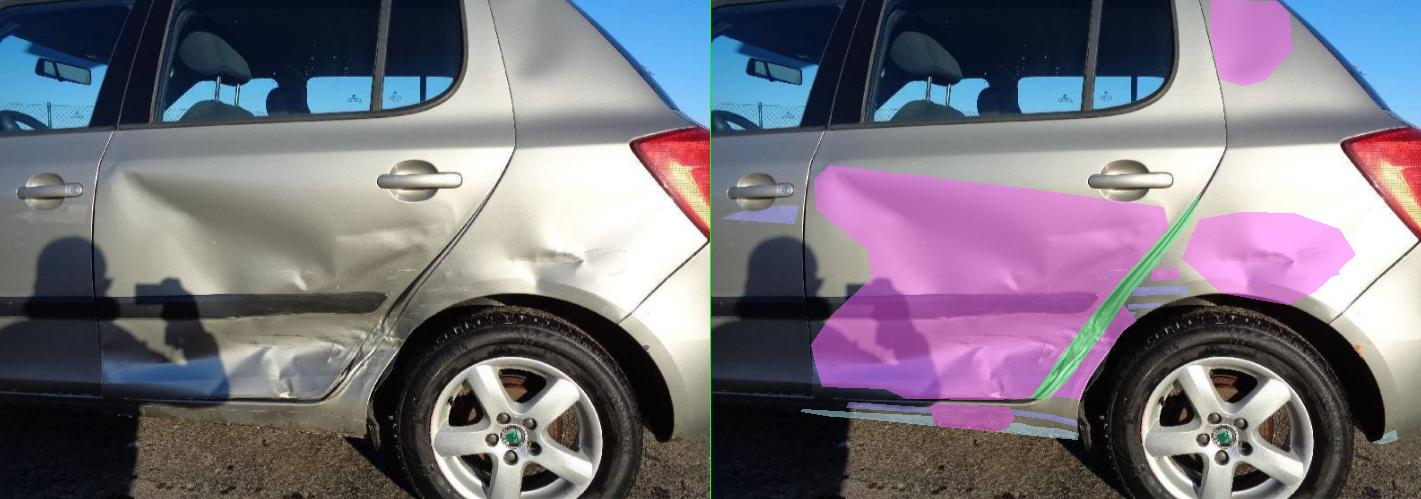Broken part: (638, 194, 979, 398)
Corrosion: (180, 409, 735, 439), (1323, 430, 1373, 443)
Dent: (200, 165, 915, 399), (943, 212, 1289, 304), (666, 296, 851, 399), (1001, 0, 1163, 85), (436, 403, 606, 431), (881, 268, 937, 280)
Paint chip: (1283, 344, 1301, 357)
Scratch: (270, 402, 733, 426), (396, 330, 620, 350), (666, 223, 891, 240), (1029, 247, 1265, 260), (22, 206, 174, 223), (771, 312, 849, 325), (843, 286, 953, 295), (765, 267, 849, 277), (554, 269, 638, 276), (1209, 269, 1257, 279), (640, 336, 694, 344), (769, 335, 811, 344), (835, 303, 899, 308)
